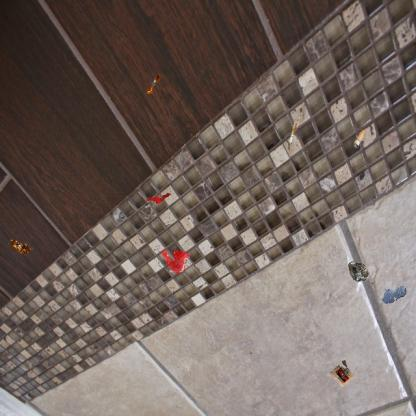dirty: (327, 358, 357, 389), (347, 259, 371, 285), (8, 238, 34, 257), (144, 190, 171, 206), (144, 74, 162, 94), (352, 128, 365, 150), (287, 121, 299, 144)
liquid: (161, 248, 191, 275), (380, 284, 408, 306)
